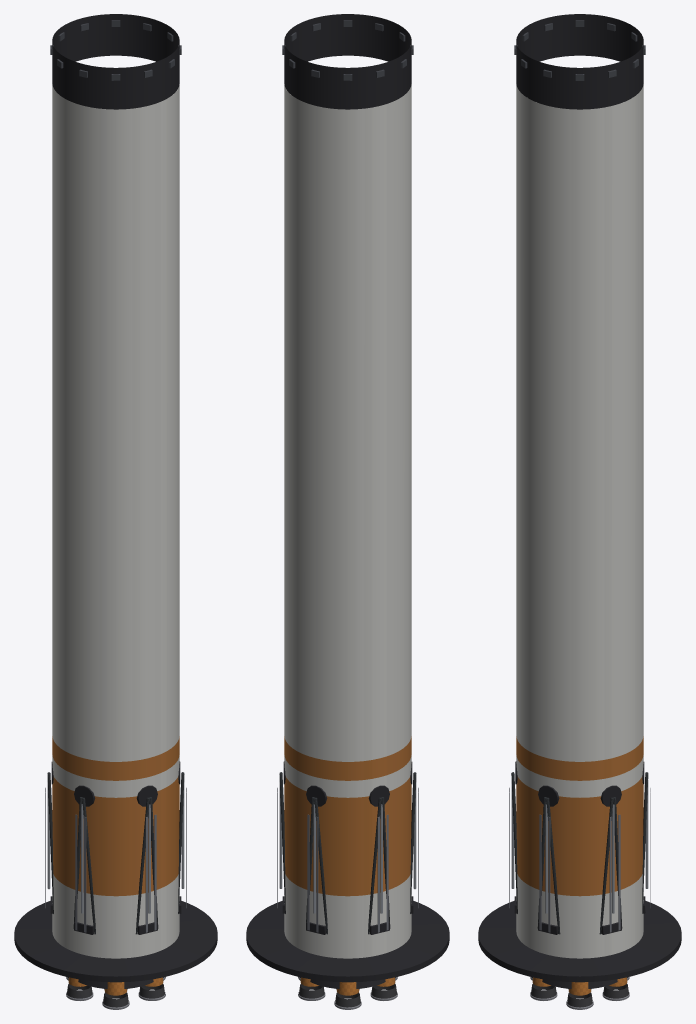
3 views of the same model, side by side, from view 1: azimuth 30°, elevation 25°; view 2: azimuth 150°, elevation 25°; view 3: azimuth 270°, elevation 25° (orthographic).
Parts seen in each view (by area): view 1: s1.hull, s1.dark, s1.bell, leg_1.dark, leg_2.dark, leg_2.metal, leg_1.metal, leg_0.dark, leg_3.dark; view 2: s1.hull, s1.dark, s1.bell, leg_4.dark, leg_3.dark, leg_4.metal, leg_3.metal, leg_5.dark, leg_2.dark; view 3: s1.hull, s1.dark, s1.bell, leg_0.dark, leg_5.dark, leg_0.metal, leg_5.metal, leg_1.dark, leg_4.dark.
Part boxes in pixels (x1,y1,x2,y2): s1.hull: [52, 84, 179, 958]; s1.dark: [14, 14, 217, 988]; s1.bell: [67, 977, 164, 1007]; leg_1.dark: [135, 785, 158, 934]; leg_2.dark: [73, 785, 95, 934]; leg_2.metal: [75, 804, 86, 932]; leg_1.metal: [145, 804, 156, 932]; leg_0.dark: [178, 761, 184, 913]; leg_3.dark: [47, 762, 53, 913]; s1.hull: [284, 84, 411, 958]; s1.dark: [246, 14, 449, 988]; s1.bell: [299, 977, 396, 1007]; leg_4.dark: [306, 785, 327, 934]; leg_3.dark: [368, 785, 390, 934]; leg_4.metal: [307, 804, 318, 932]; leg_3.metal: [377, 804, 388, 932]; leg_5.dark: [279, 761, 285, 913]; leg_2.dark: [410, 762, 416, 913]; s1.hull: [516, 84, 643, 958]; s1.dark: [478, 14, 681, 988]; s1.bell: [531, 977, 628, 1007]; leg_0.dark: [537, 785, 560, 934]; leg_5.dark: [599, 785, 622, 934]; leg_0.metal: [539, 804, 550, 932]; leg_5.metal: [609, 804, 620, 932]; leg_1.dark: [511, 761, 517, 913]; leg_4.dark: [642, 762, 648, 913].
Size of the model in its own units: 11.2 by 57.42 by 11.2.
